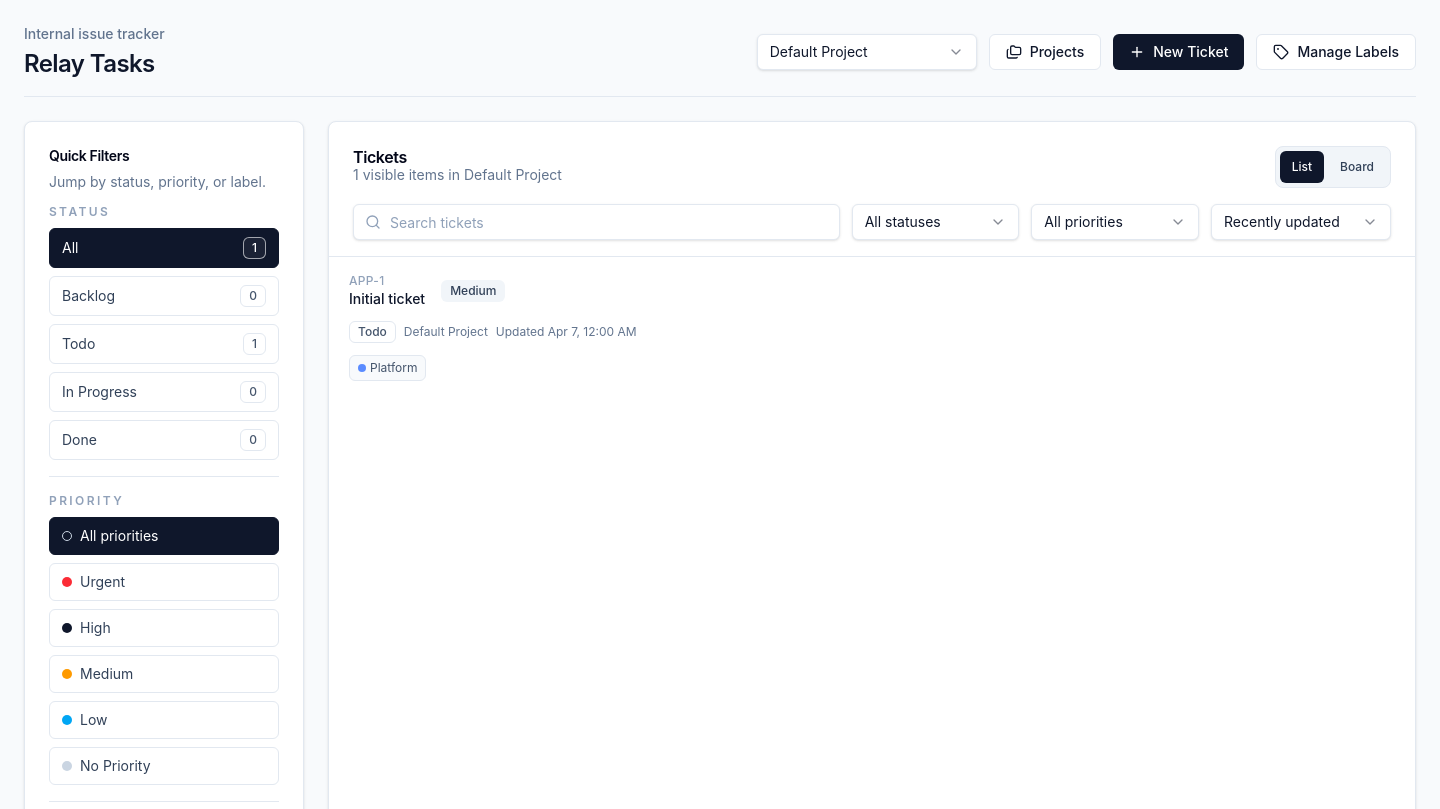
Test: App › keeps the ticket panel hidden until a ticket is selected and lets it close again
The image size is (1440, 809).
Click the button "Initial ticket".
click(872, 327)  # box [329,257,1415,397]
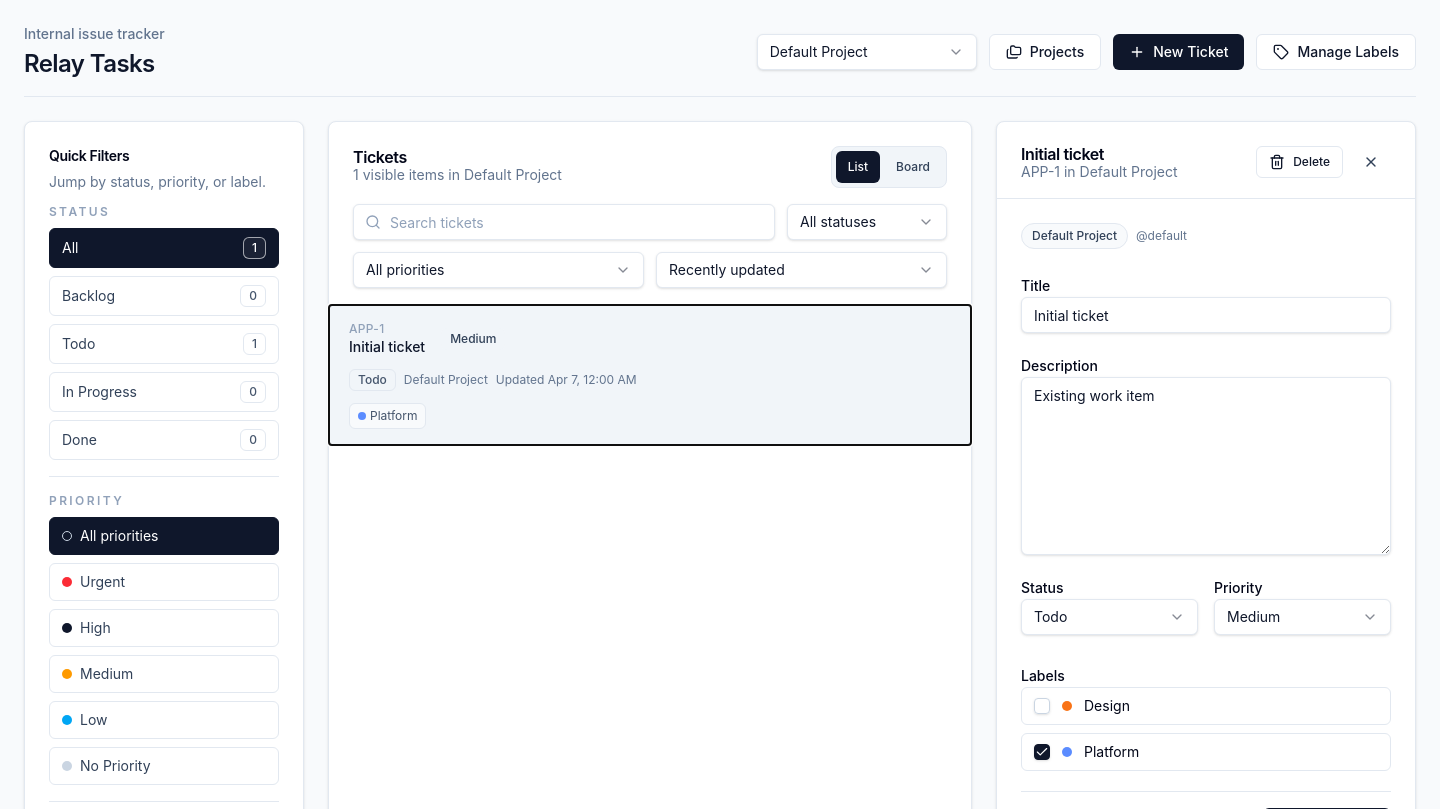
Now the field named "Ticket title" is shown, box [1021,297,1391,333]
Click the button named "Close ticket panel".
click(1371, 162)  # box [1351,146,1391,178]
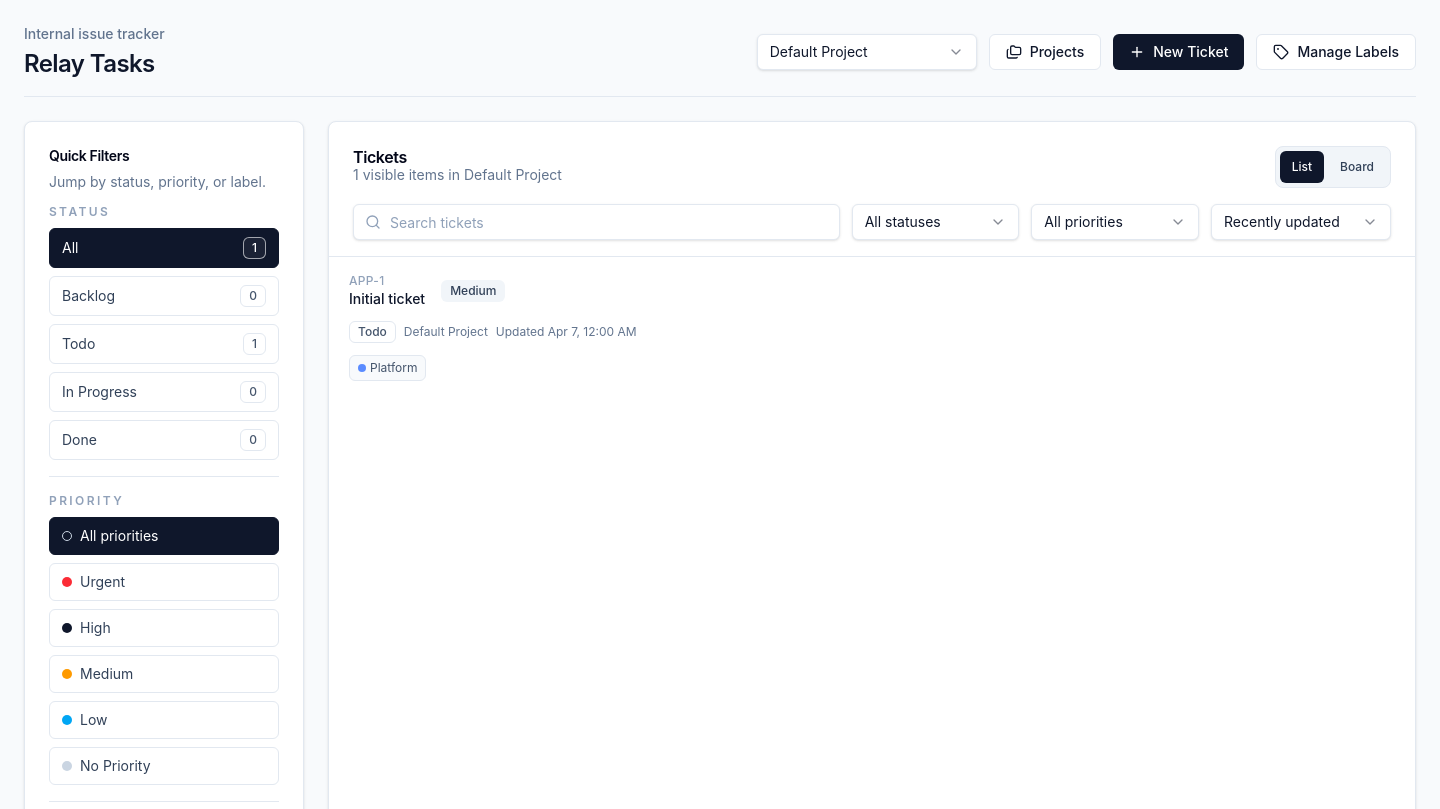
Now the field labelled "Ticket title" is gone
